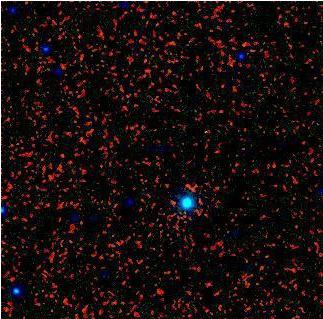star: (228, 44, 258, 74)
